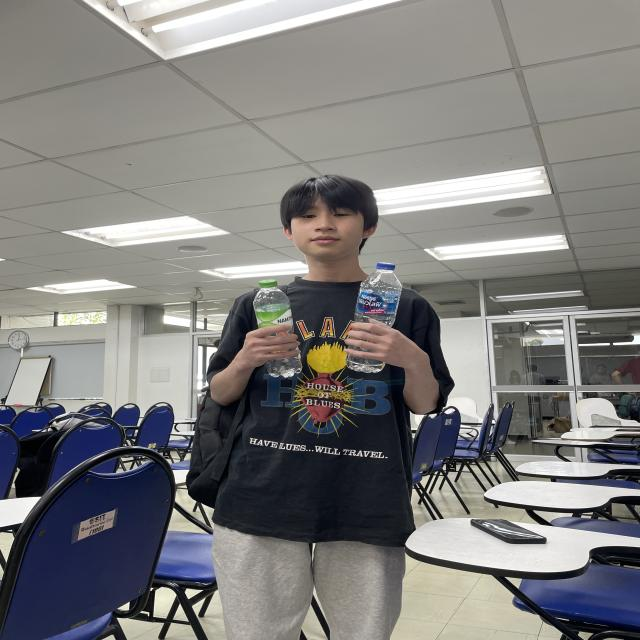bottle: (345, 262, 402, 374), (254, 278, 304, 380)
